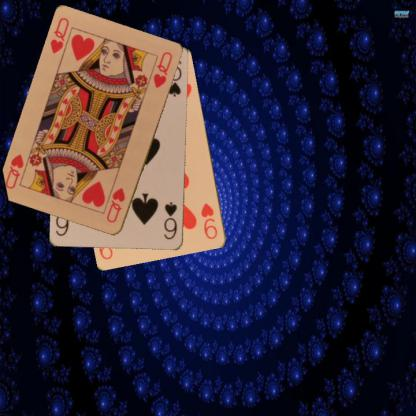6s: (161, 199, 179, 241)
9h: (198, 200, 219, 241)
Qh: (104, 185, 127, 224), (48, 15, 70, 55)
